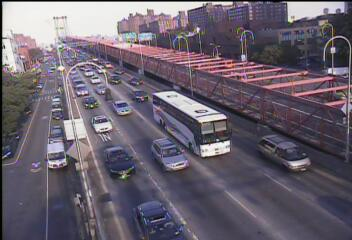neg: (1, 139, 15, 156)
